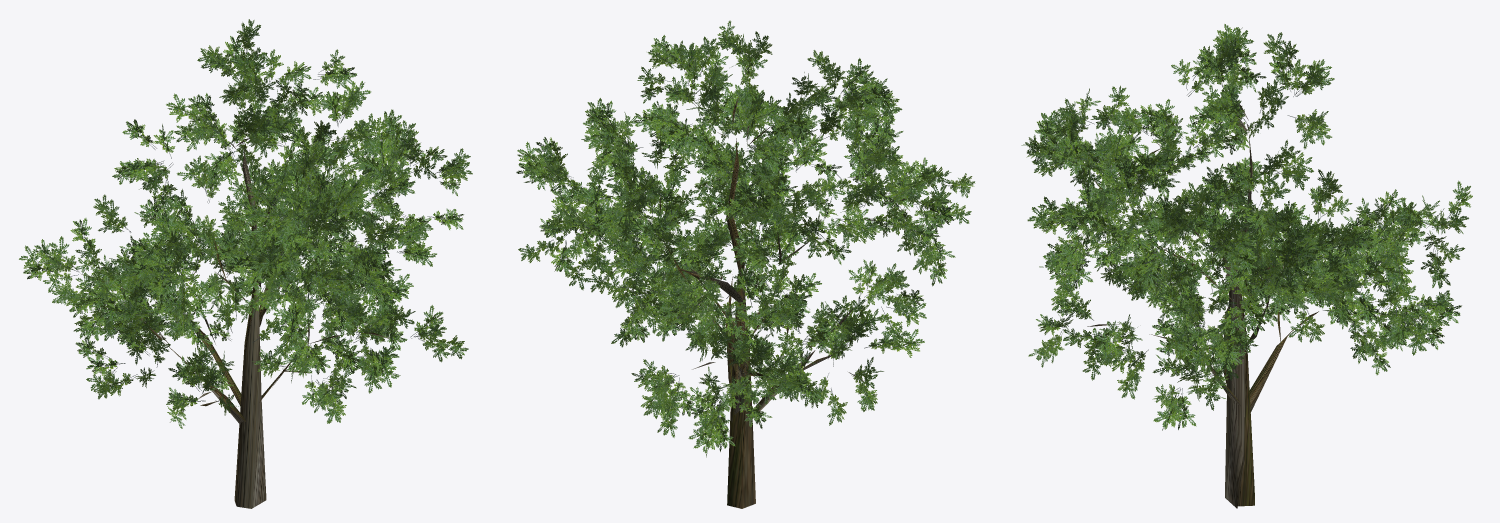
File: apple_backup.glb
The picture shows the model from 3 angles, left to right: view 1: azimuth 30°, elevation 25°; view 2: azimuth 150°, elevation 25°; view 3: azimuth 270°, elevation 25°; orthographic projection. The views are drawn at different scales.
Parts seen in each view (by area): view 1: Tree; view 2: Tree; view 3: Tree.
Boxes of the visible parts, x1,y1,x2,y2 form: Tree: (19, 19, 472, 508); Tree: (516, 20, 975, 508); Tree: (1021, 24, 1472, 508).
Bounding box in the file's own units: 2.41 × 2.92 × 2.58.
Materials: 2 (2 with a texture image).
